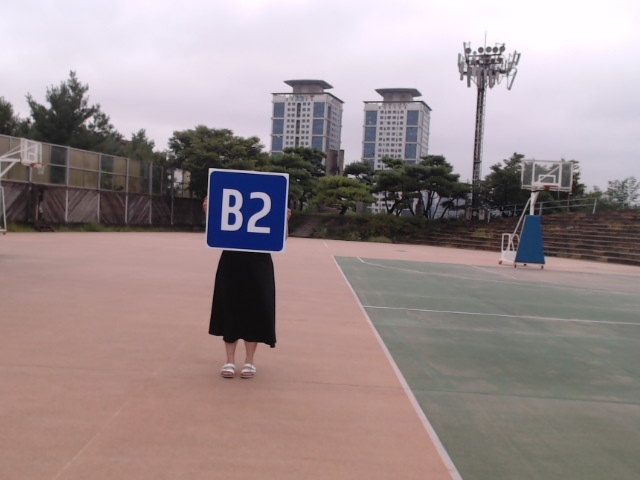delivery_b2: (205, 171, 288, 253)
